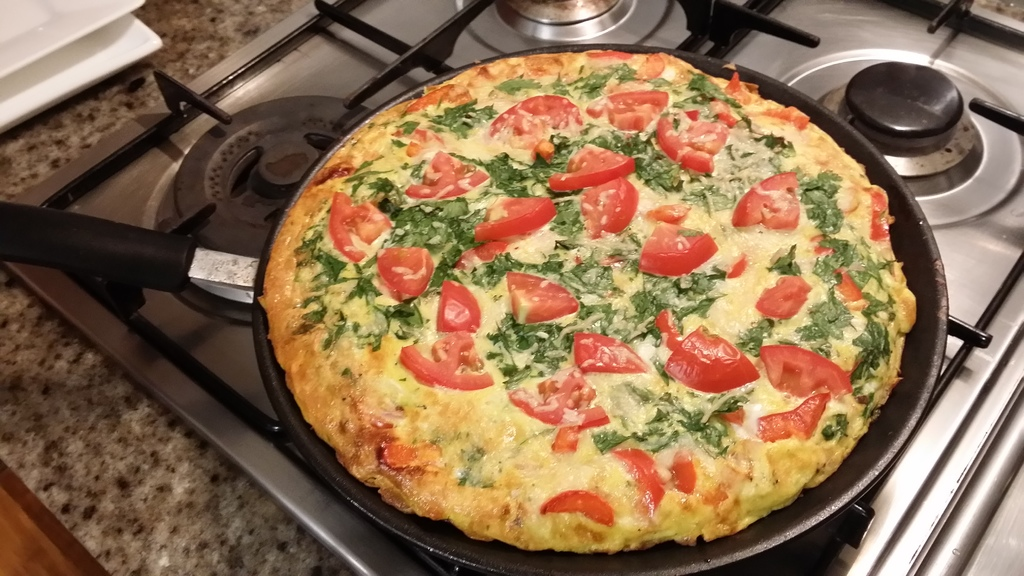Pizza: (234, 51, 919, 542)
